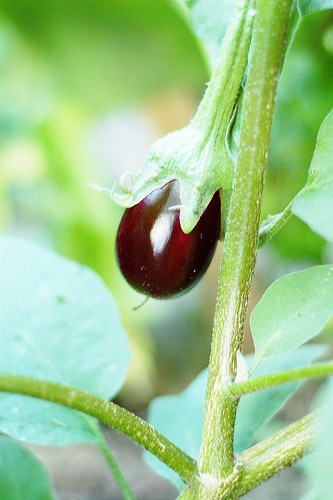eggplant: (110, 114, 244, 310)
